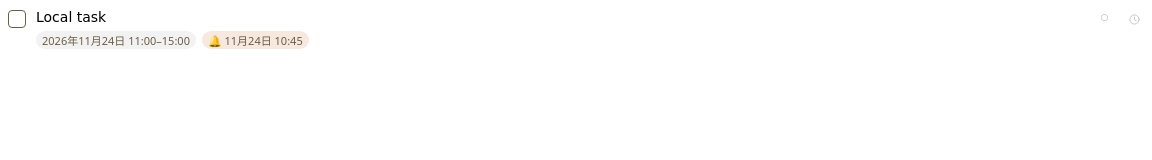
Test: renders local schedule and reminder badges and invokes onEdit only for local active tasks
The width and height of the screenshot is (1152, 160).
Expected: the button named "编辑任务与时间" shows "11:00–15:00", [36,31,196,49]
Expected: the button "🔔 11月24日 10:45" is shown, [202,31,309,49]
Click the button with class "task-edit" at (1133, 19), box [1122,8,1144,30]
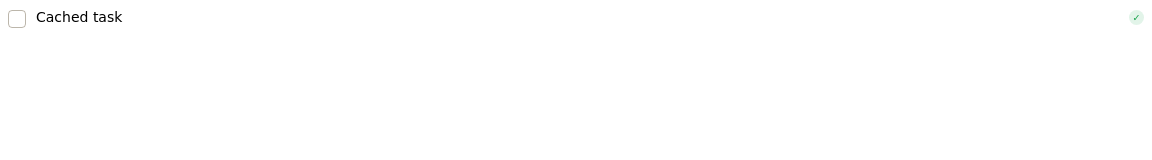
Result: the button with class "task-edit" is gone
